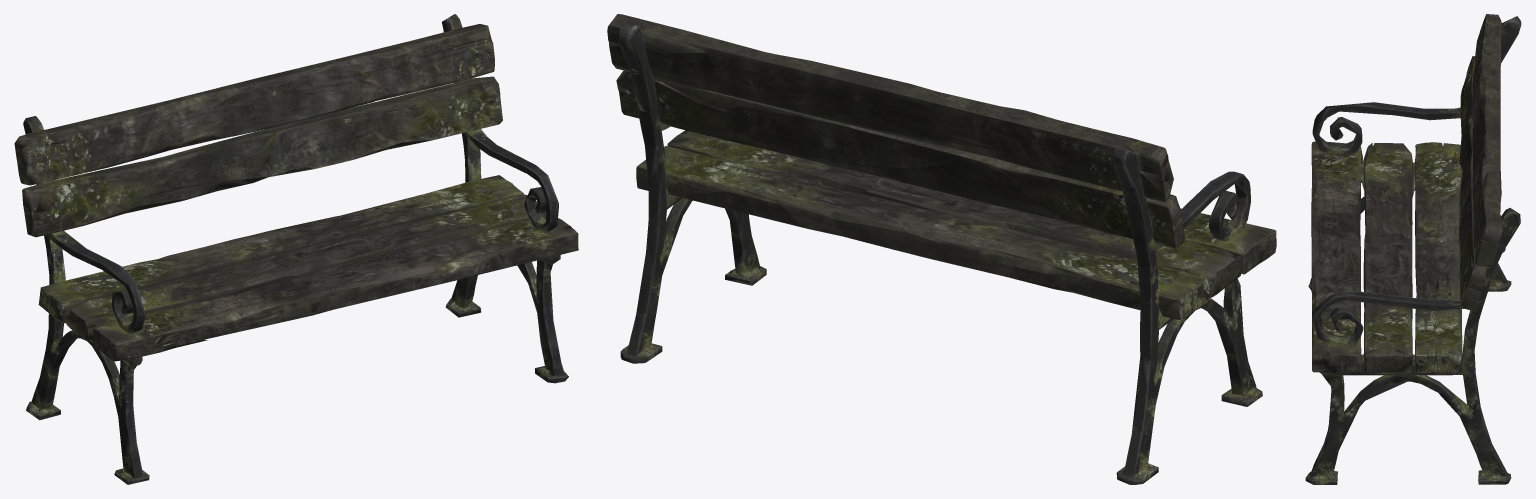
The model's file is sp_m_bench.glb.
3 renders of one model, left to right at view 1: azimuth 30°, elevation 25°; view 2: azimuth 150°, elevation 25°; view 3: azimuth 270°, elevation 25°, orthographic. The views are drawn at different scales.
Parts seen in each view (by area): view 1: Mesh_0; view 2: Mesh_0; view 3: Mesh_0.
Boxes of the visible parts, box(x1,y1,x2,y2) form: Mesh_0: box(14, 14, 578, 484); Mesh_0: box(607, 14, 1276, 484); Mesh_0: box(1305, 14, 1521, 484).
Size of the model in its own units: 1.9 by 1.11 by 0.8022.
1 material, 1 textured.
